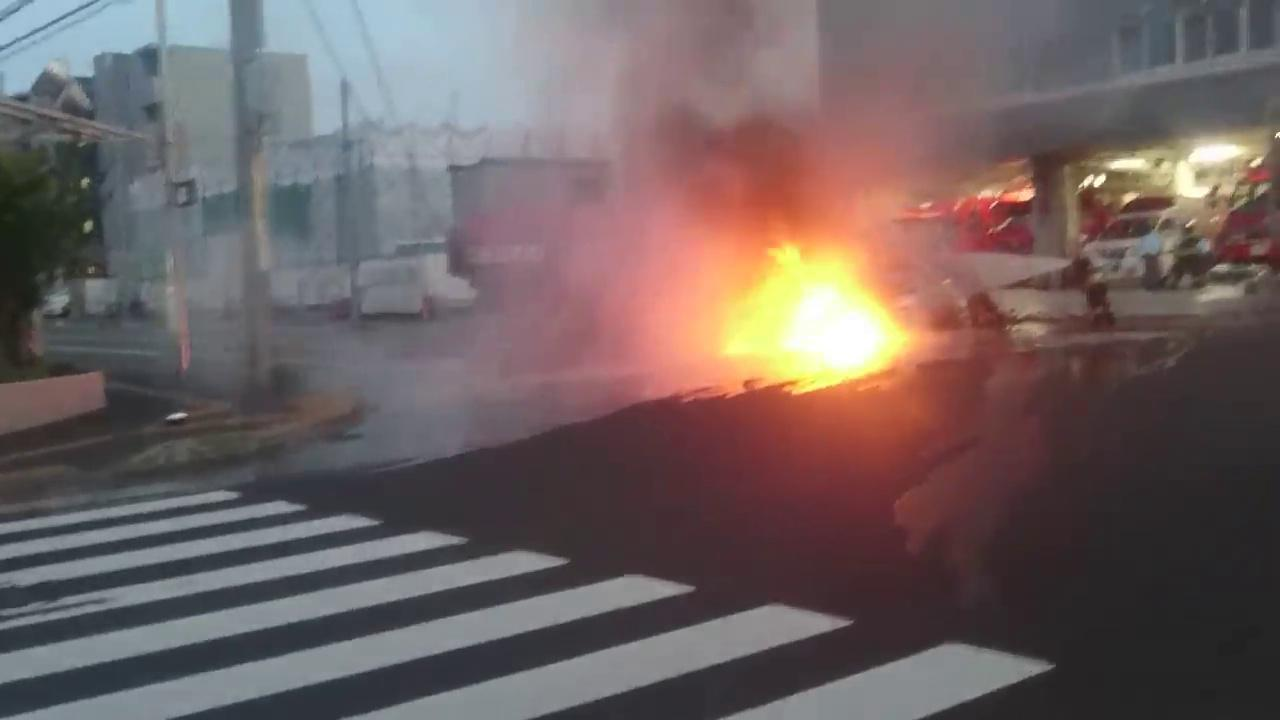Fire: (726, 246, 901, 346)
